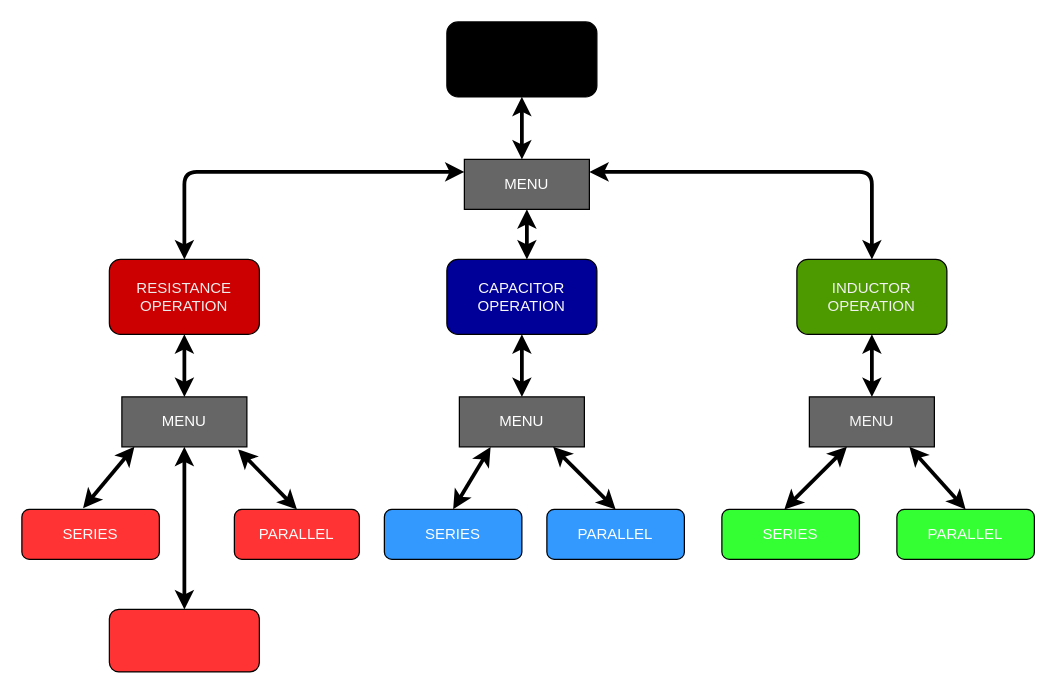
This 1056x694 diagram has some shape labels left out. The centre of each missing label's shape, as x and y in pixels:
COLOR CODE OPERATION: the point at 183,640
t TERMINAL: the point at 521,59
